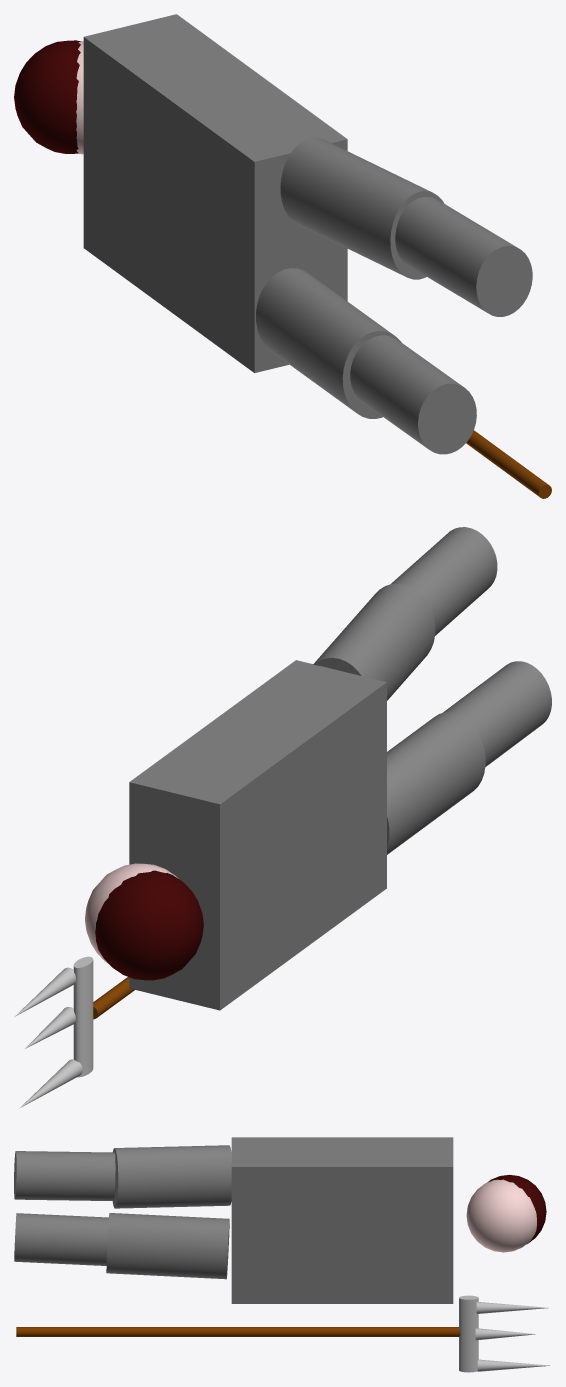
Rendered from militia.obj.
The picture shows the model from 3 angles, top to bottom: view 1: azimuth 30°, elevation 25°; view 2: azimuth 150°, elevation 25°; view 3: azimuth 270°, elevation 25°; orthographic projection. The views are drawn at different scales.
Visible parts, largest first — view 1: Default, Default_Upper_right_leg, Default_Upper_left_leg, Default_Lower_right_leg, Default_Lower_left_leg, Default_Hair, Default_Pitchfork_shaft, Default_Head; view 2: Default, Default_Hair, Default_Upper_left_leg, Default_Upper_right_leg, Default_Lower_left_leg, Default_Lower_right_leg, Default_Cylinder_6, Default_Head, Default_Cone_2, Default_Cone_3, Default_Pitchfork_shaft; view 3: Default, Default_Upper_left_leg, Default_Upper_right_leg, Default_Lower_right_leg, Default_Lower_left_leg, Default_Pitchfork_shaft, Default_Head, Default_Cylinder_6, Default_Hair, Default_Cone_2, Default_Cone_3, Default_Cone.
Part boxes in pixels (x1=…): Default: x1=83, y1=14, x2=347, y2=373; Default_Upper_right_leg: x1=280, y1=137, x2=444, y2=279; Default_Upper_left_leg: x1=256, y1=268, x2=401, y2=418; Default_Lower_right_leg: x1=395, y1=197, x2=532, y2=316; Default_Lower_left_leg: x1=350, y1=335, x2=476, y2=454; Default_Hair: x1=14, y1=40, x2=81, y2=153; Default_Pitchfork_shaft: x1=466, y1=430, x2=551, y2=498; Default_Head: x1=76, y1=41, x2=83, y2=154; Default: x1=129, y1=660, x2=386, y2=1010; Default_Hair: x1=95, y1=870, x2=203, y2=980; Default_Upper_left_leg: x1=387, y1=712, x2=485, y2=854; Default_Upper_right_leg: x1=313, y1=583, x2=435, y2=700; Default_Lower_left_leg: x1=443, y1=661, x2=551, y2=766; Default_Lower_right_leg: x1=391, y1=527, x2=497, y2=635; Default_Cylinder_6: x1=73, y1=956, x2=93, y2=1077; Default_Head: x1=85, y1=863, x2=178, y2=963; Default_Cone_2: x1=19, y1=1059, x2=82, y2=1108; Default_Cone_3: x1=14, y1=967, x2=75, y2=1016; Default_Pitchfork_shaft: x1=93, y1=977, x2=134, y2=1019; Default: x1=231, y1=1137, x2=453, y2=1303; Default_Upper_left_leg: x1=106, y1=1213, x2=229, y2=1279; Default_Upper_right_leg: x1=112, y1=1145, x2=232, y2=1208; Default_Lower_right_leg: x1=14, y1=1151, x2=115, y2=1201; Default_Lower_left_leg: x1=14, y1=1213, x2=108, y2=1265; Default_Pitchfork_shaft: x1=16, y1=1327, x2=460, y2=1336; Default_Head: x1=466, y1=1179, x2=536, y2=1252; Default_Cylinder_6: x1=459, y1=1295, x2=478, y2=1372; Default_Hair: x1=487, y1=1174, x2=546, y2=1243; Default_Cone_2: x1=477, y1=1359, x2=549, y2=1371; Default_Cone_3: x1=476, y1=1302, x2=548, y2=1313; Default_Cone: x1=475, y1=1328, x2=535, y2=1340.
Bounding box in the file's own units: 0.0494 × 0.0907 × 0.2173.
